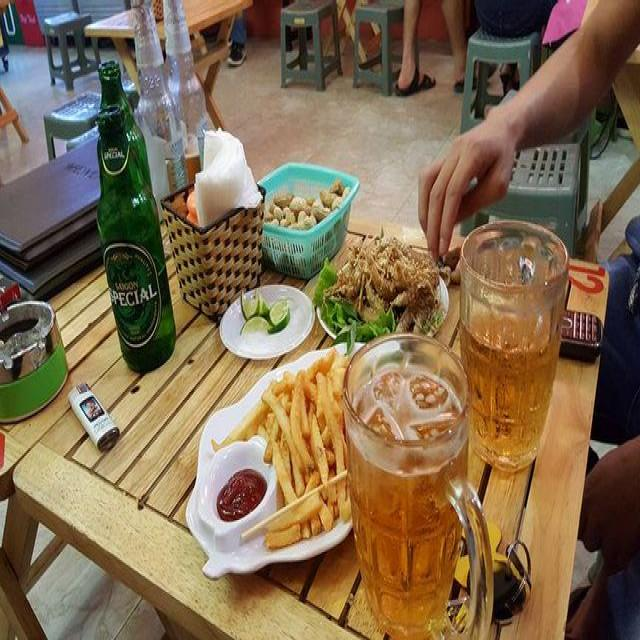bia: (350, 367, 483, 638), (466, 237, 564, 482)
chanh: (239, 294, 289, 335)
dau phong rang: (264, 179, 336, 226)
khoai tay chien: (202, 342, 358, 552)
